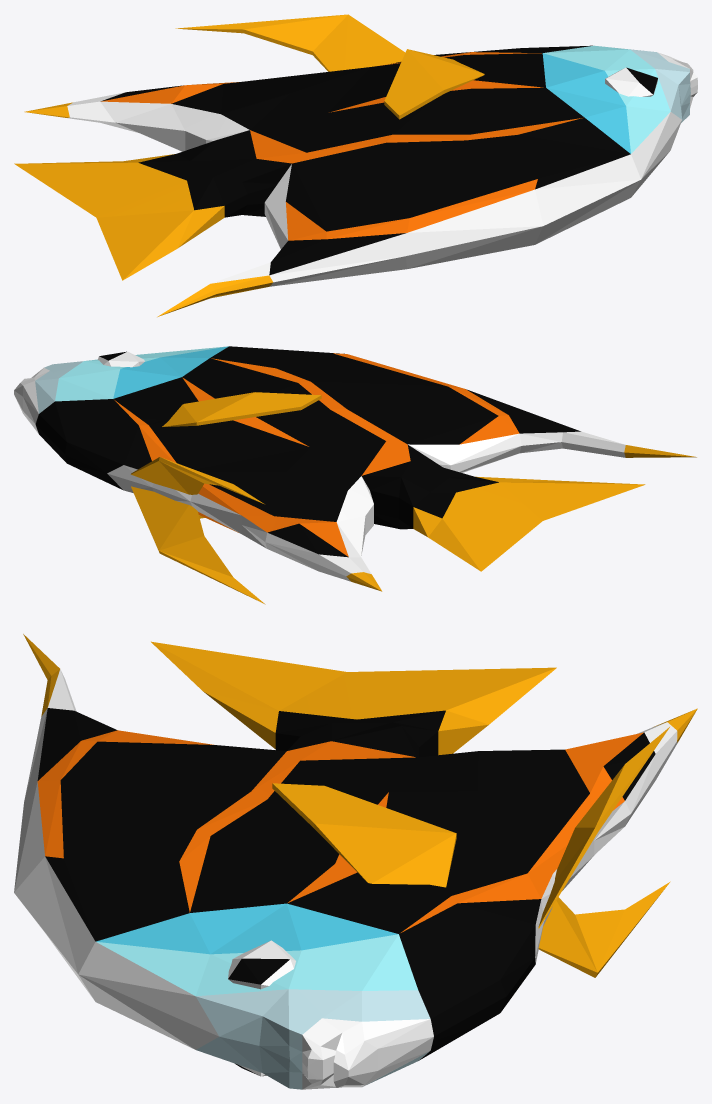
File: Angelfish.glb
3 views of the same model, one above another, from view 1: azimuth 30°, elevation 25°; view 2: azimuth 150°, elevation 25°; view 3: azimuth 270°, elevation 25° (orthographic). The views are drawn at different scales.
Parts seen in each view (by area): view 1: Angelfish; view 2: Angelfish; view 3: Angelfish.
Boxes of the visible parts, bbox=[...] form: Angelfish: bbox=[14, 14, 697, 316]; Angelfish: bbox=[14, 346, 696, 604]; Angelfish: bbox=[14, 634, 697, 1089].
Bounding box in the file's own units: 0.303 × 0.0499 × 0.1989.
1 material, 1 textured.
